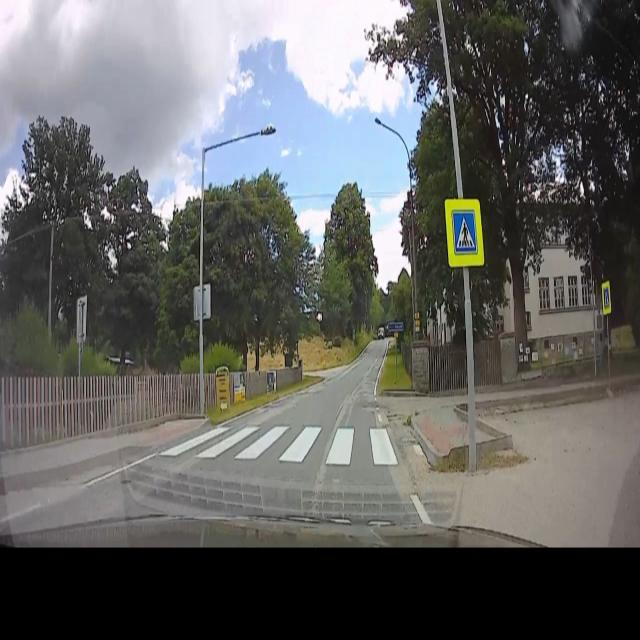Pedestrian crosswalk: (161, 419, 413, 472), (444, 194, 486, 271), (601, 276, 614, 318)
